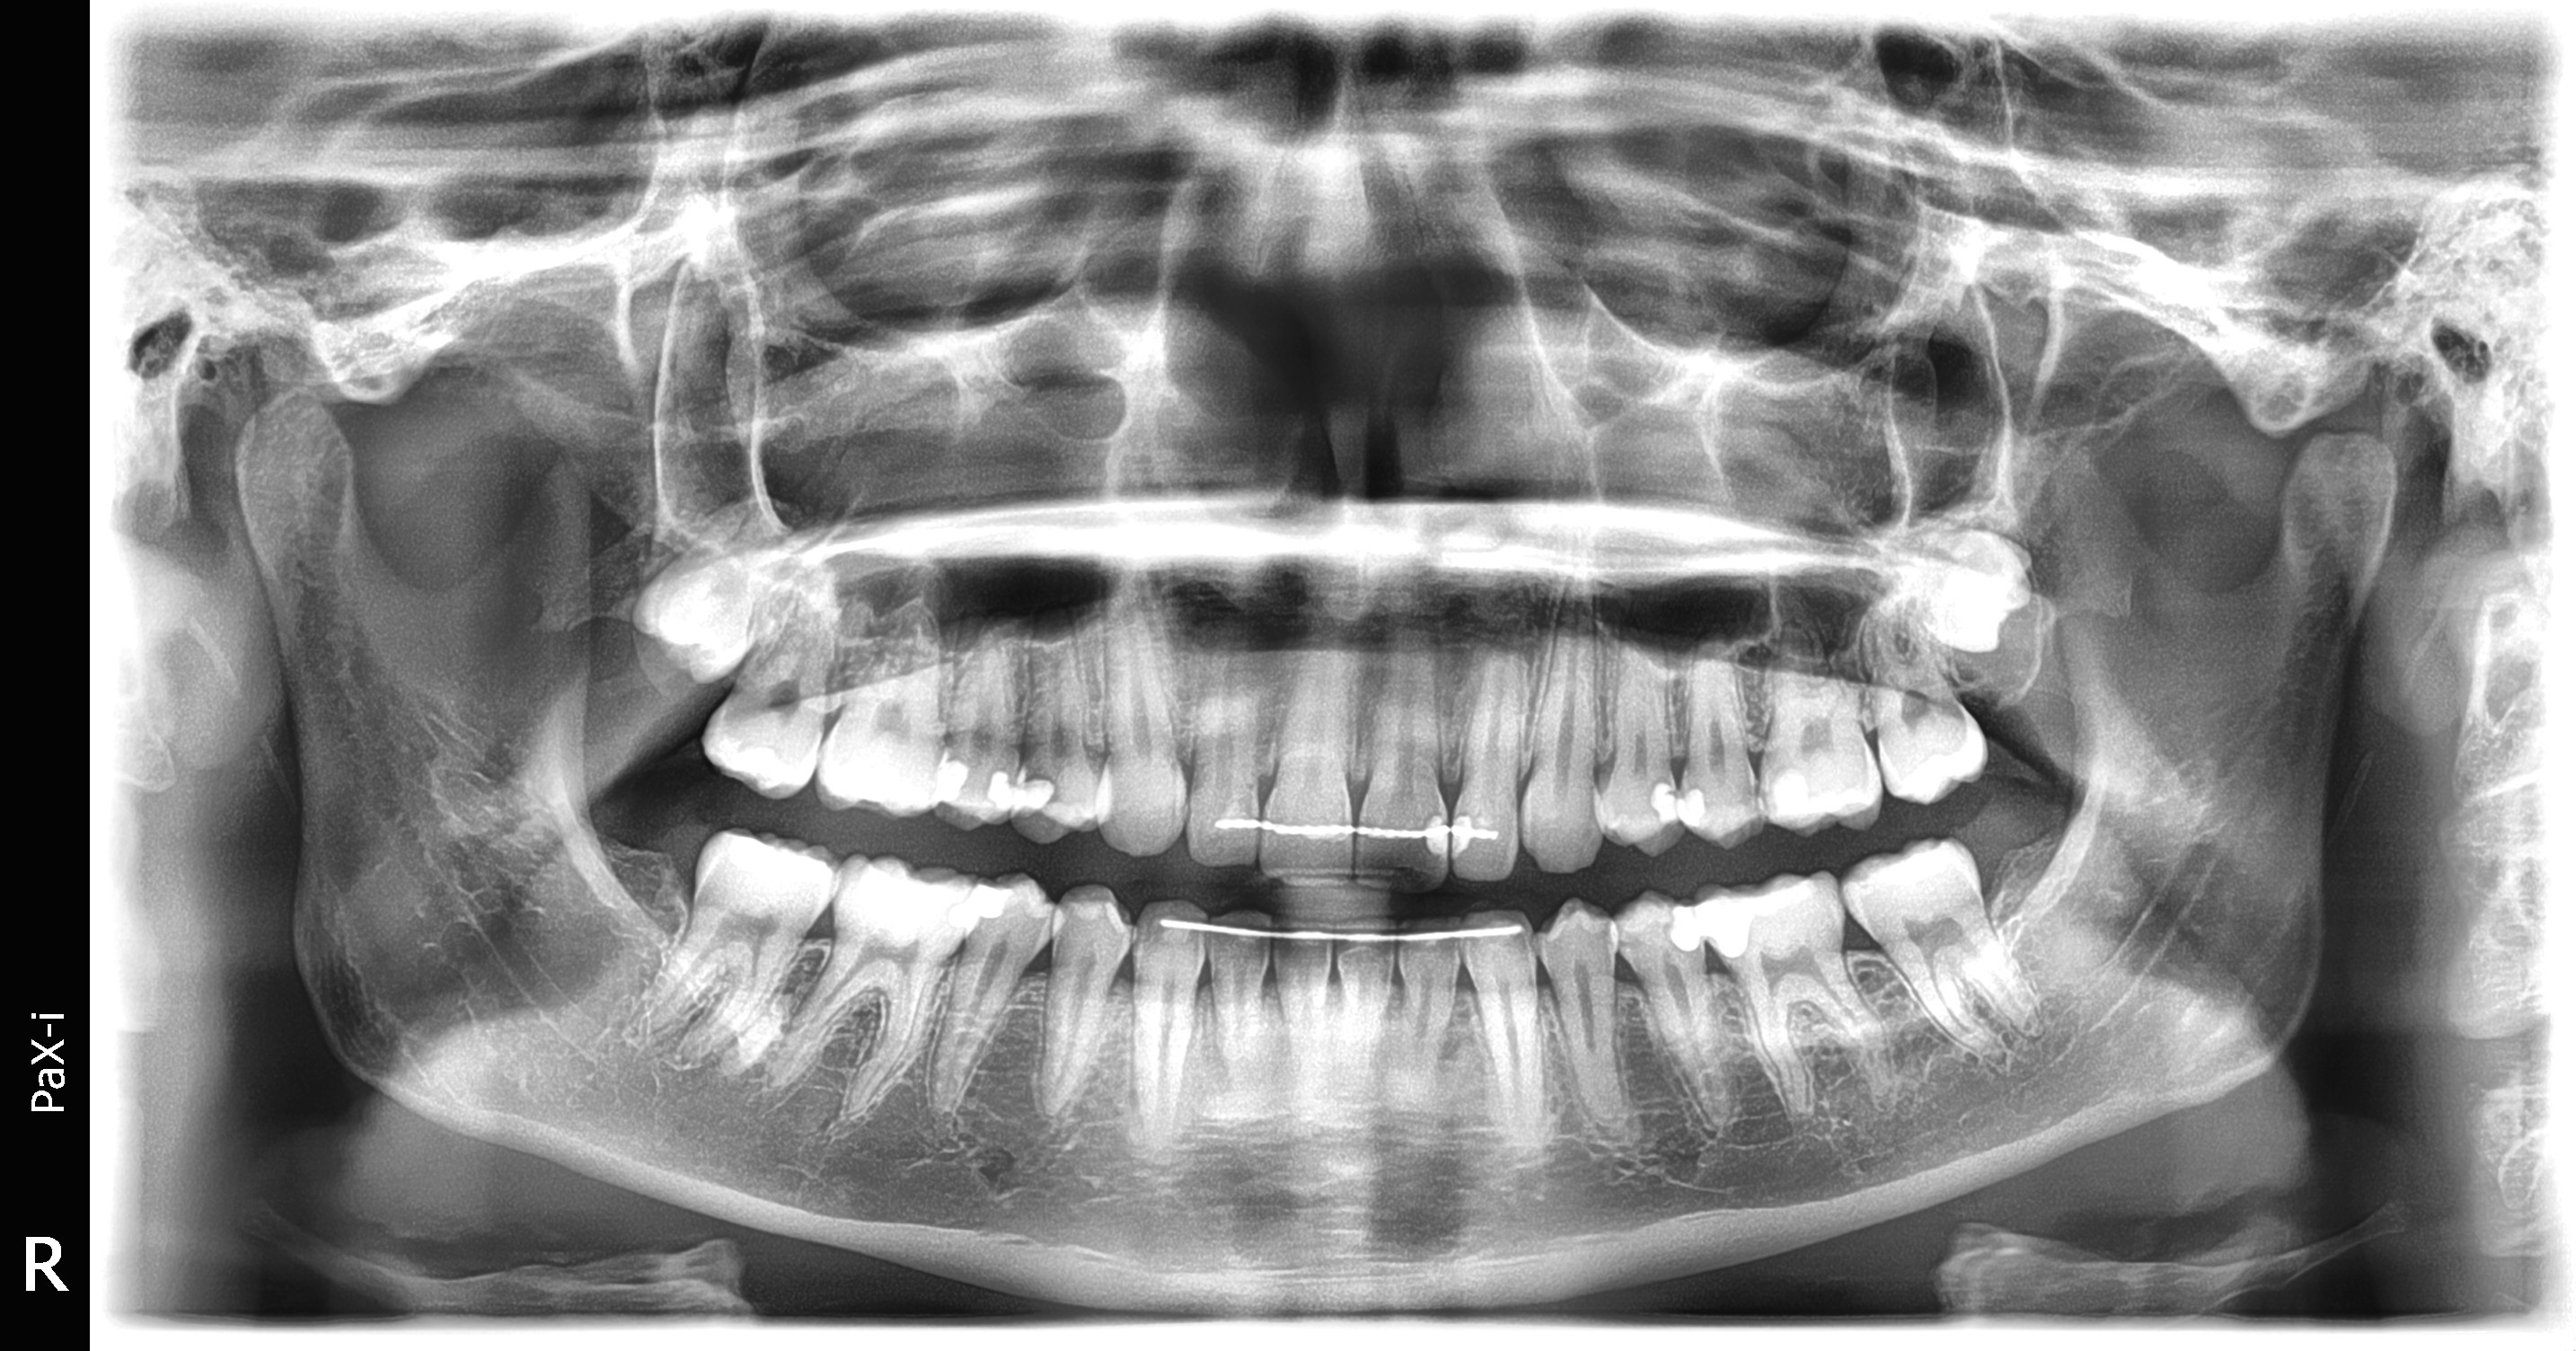CAR: (1721, 772, 1767, 823)
IMT: (595, 489, 814, 681), (1876, 494, 2050, 664)
OBT: (1705, 864, 1837, 968), (963, 862, 1031, 947), (1770, 755, 1845, 823), (1642, 877, 1707, 949), (1007, 756, 1068, 826), (1632, 772, 1687, 840), (937, 731, 978, 821), (976, 750, 1017, 833), (1411, 790, 1452, 864), (1676, 768, 1726, 819), (1440, 806, 1486, 855)
ORD: (1141, 881, 1533, 968), (1203, 797, 1513, 867)
